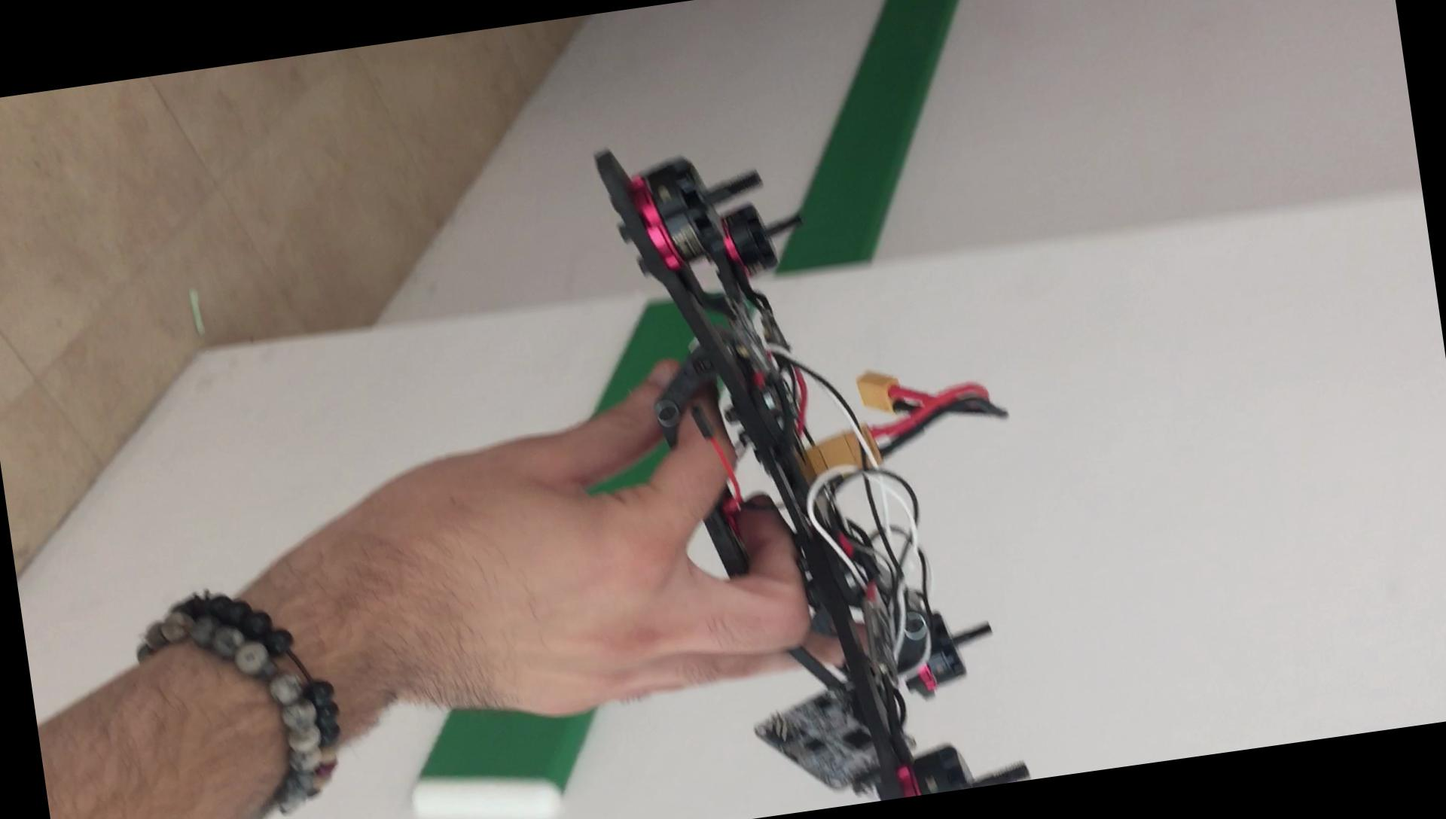drone: (566, 98, 1069, 819)
